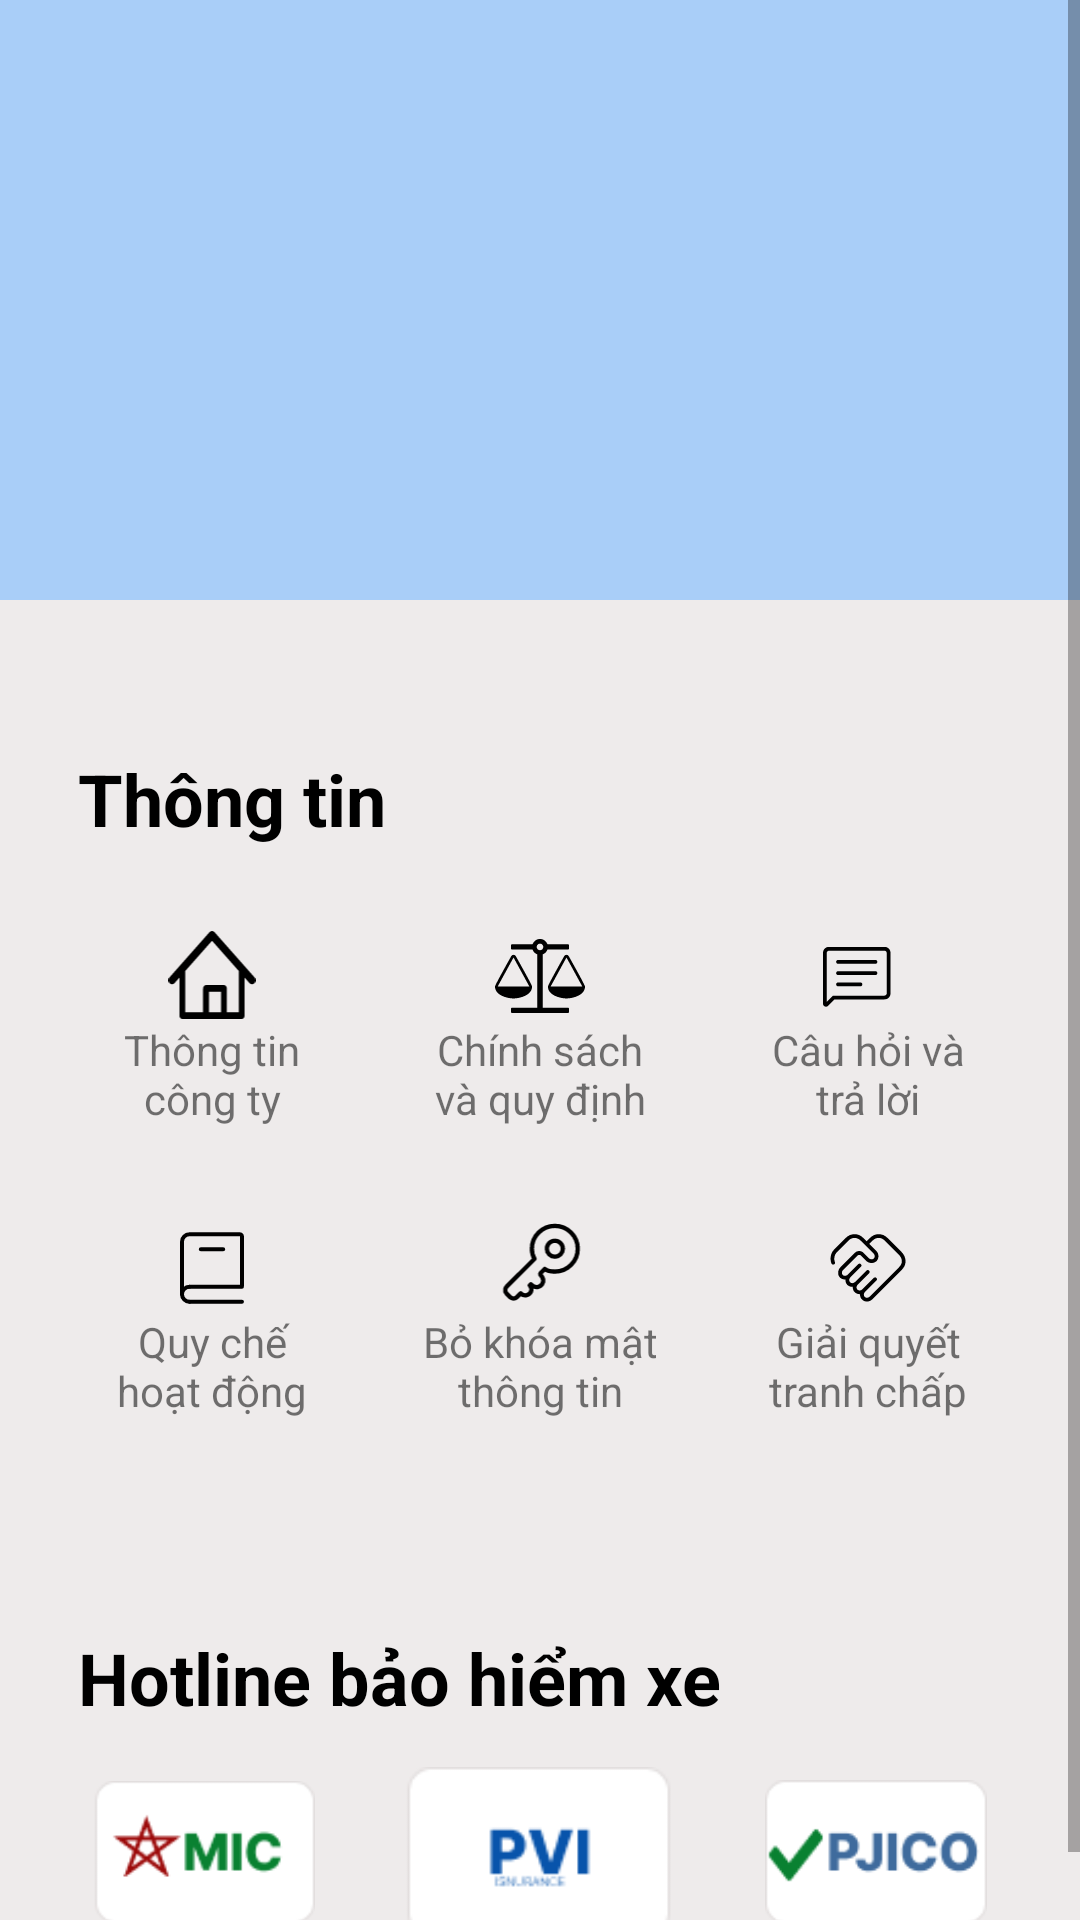

Icons on this 1080 × 1920 Android screen, each with the point to tap as point (x, y):
balance: point (540, 976)
book: point (212, 1268)
hand: point (868, 1268)
key: point (541, 1262)
request: point (857, 977)
